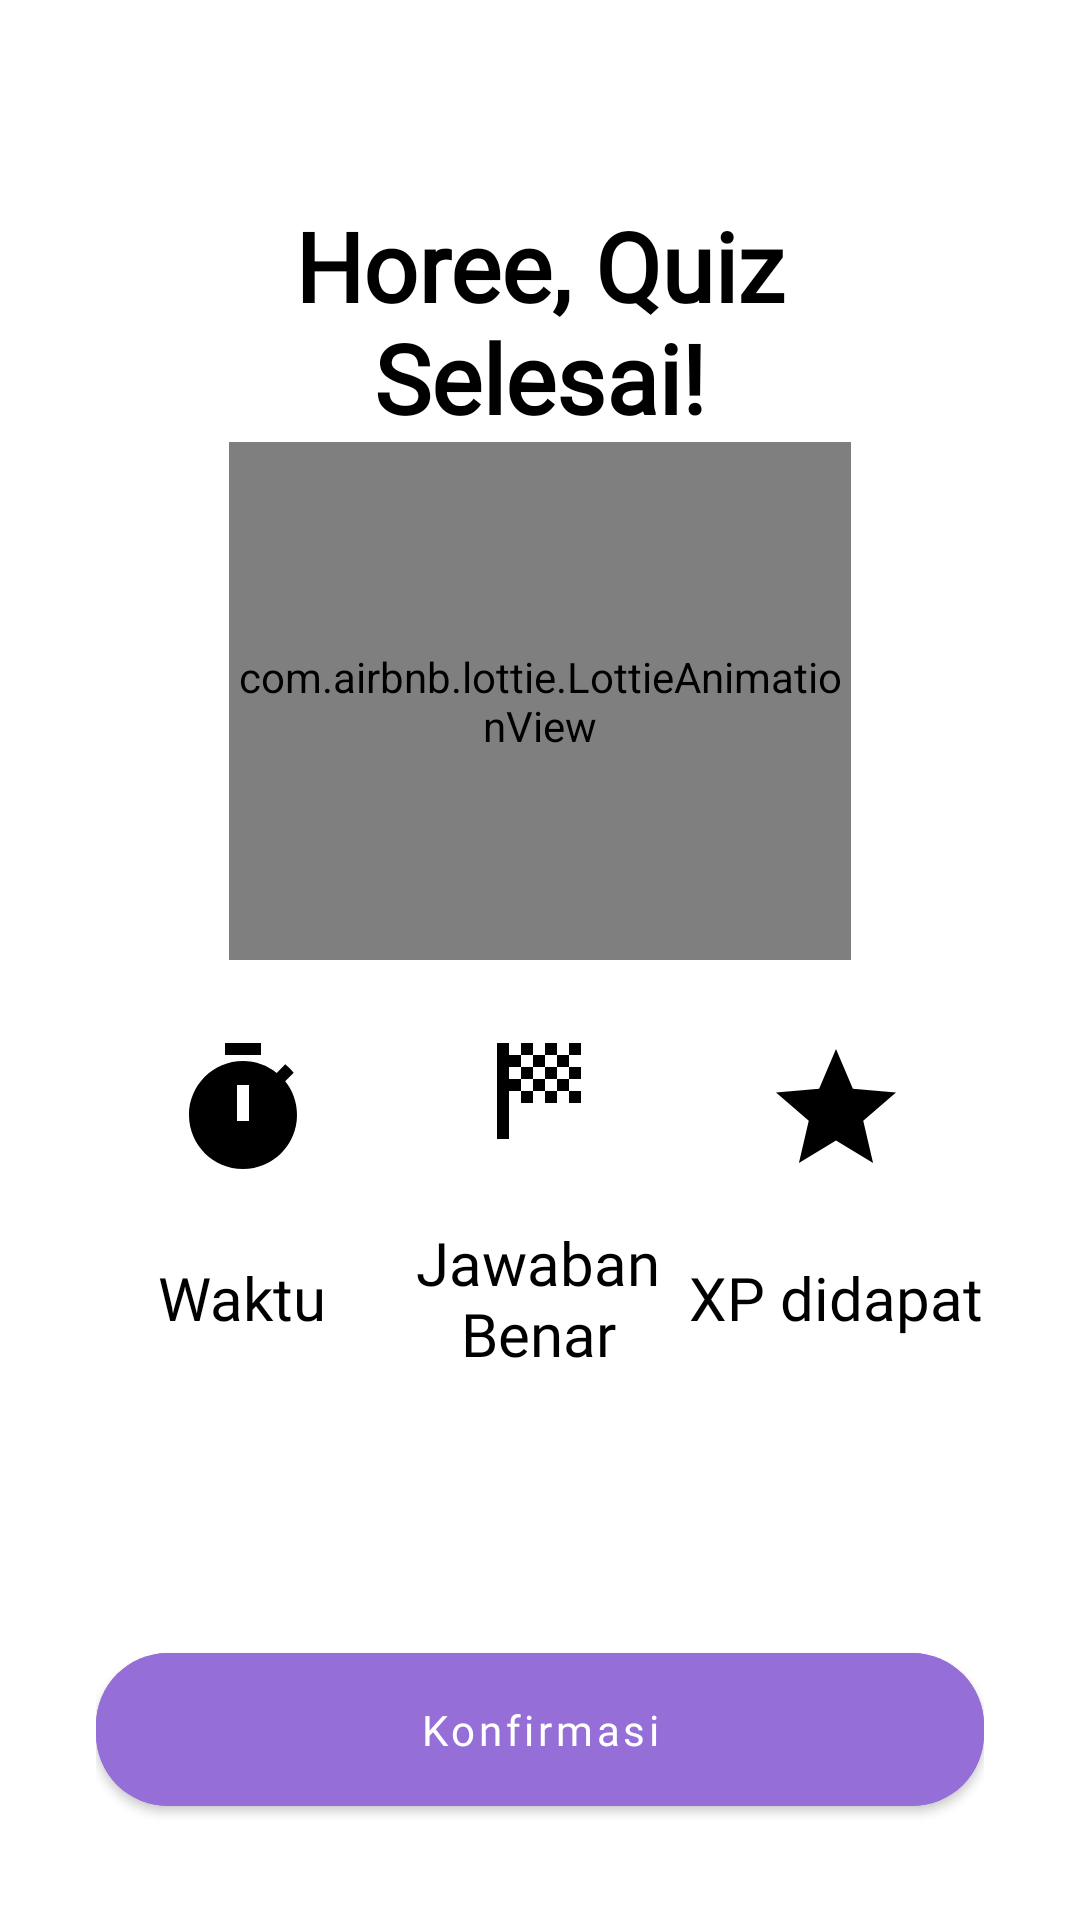

Screen size 1080x1920. Icon name, then its box in pixels as (x1, y1, x2, y2):
star: (776, 1049, 896, 1163)
timer: (189, 1043, 297, 1169)
